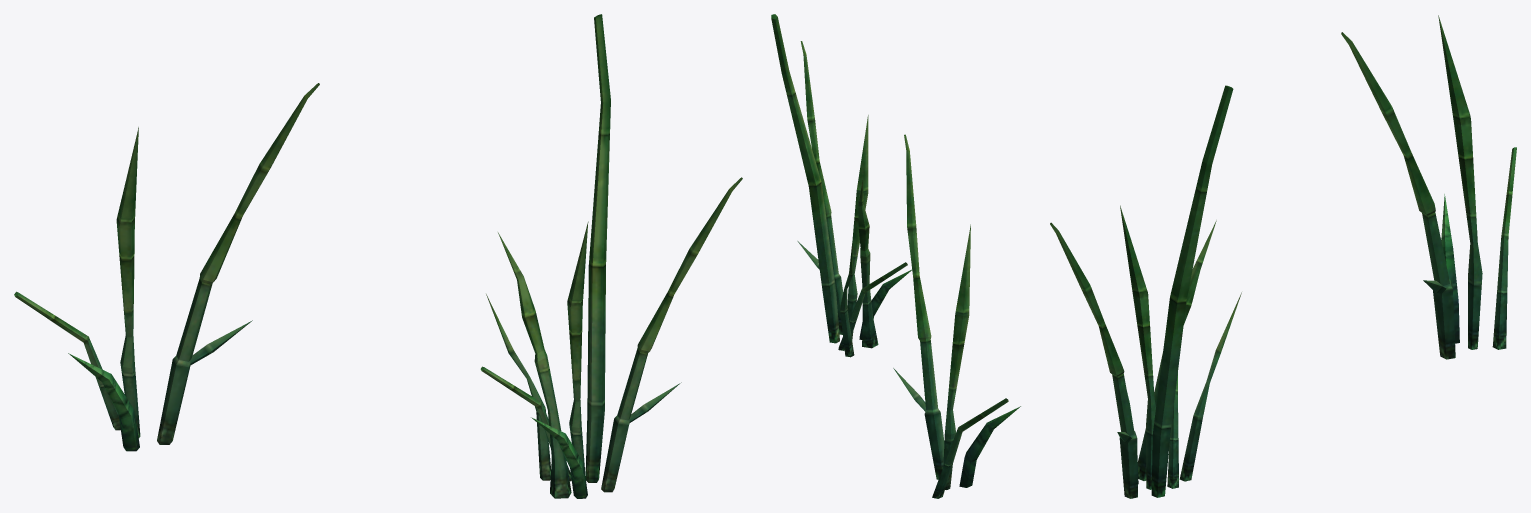
File: Area_12_12.fbx
The picture shows the model from 3 angles, left to right: view 1: azimuth 30°, elevation 25°; view 2: azimuth 150°, elevation 25°; view 3: azimuth 270°, elevation 25°; orthographic projection. The views are drawn at different scales.
Visible parts, largest first — view 1: Area_12_12; view 2: Area_12_12; view 3: Area_12_12.
Part boxes in pixels (x1,y1,x2,y2): Area_12_12: [14, 14, 742, 498]; Area_12_12: [771, 14, 1020, 498]; Area_12_12: [1050, 15, 1516, 498].
Size of the model in its own units: 1952 by 1617 by 1592.
